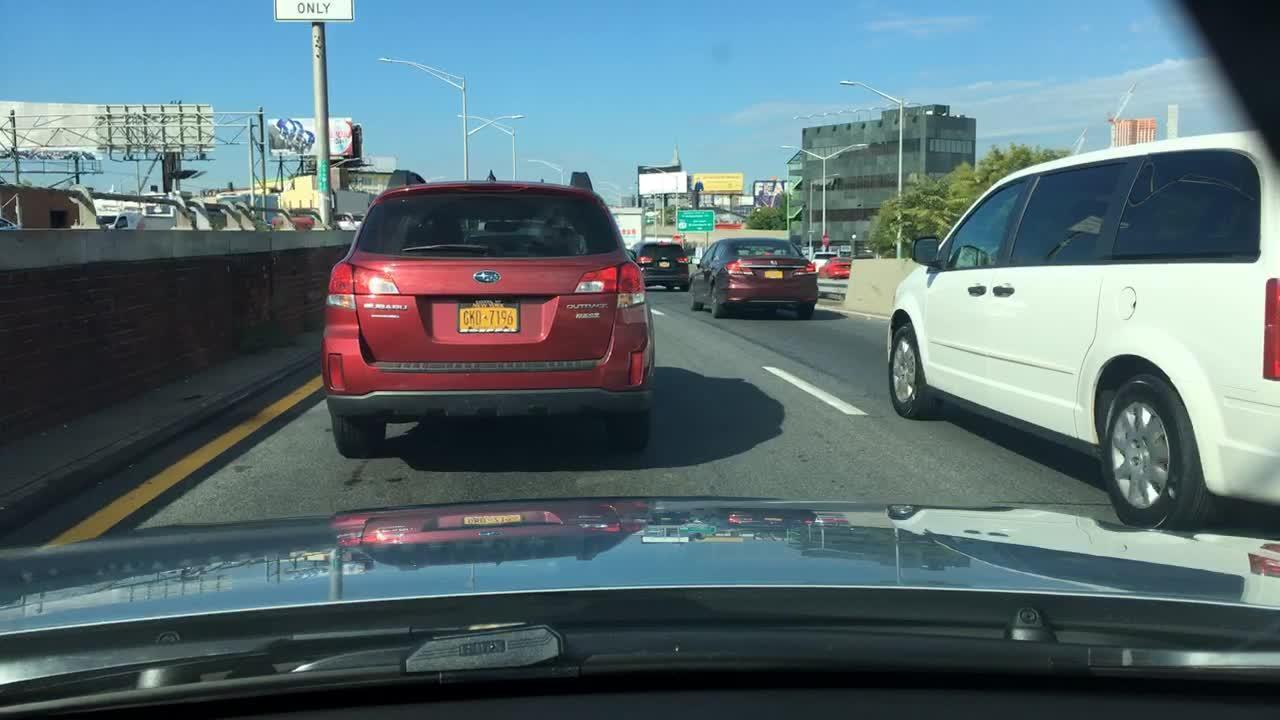subaru: (468, 264, 511, 295)
